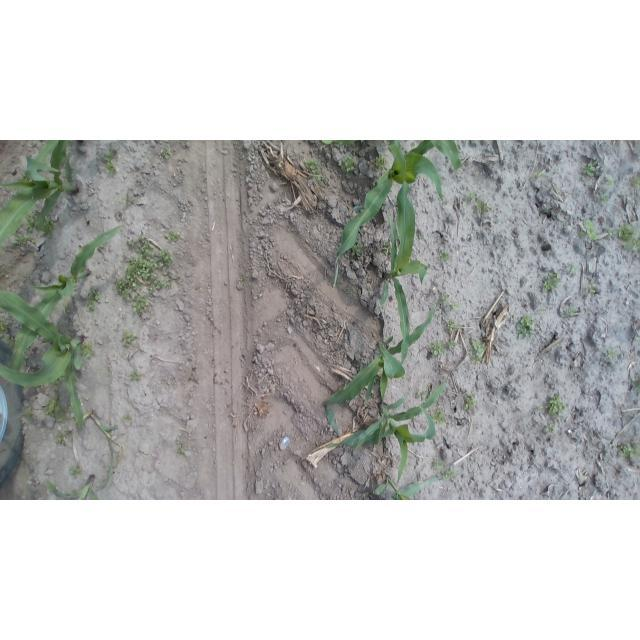Maize: (330, 140, 466, 289), (6, 226, 126, 374), (321, 299, 438, 439), (319, 370, 449, 484), (0, 289, 92, 428), (378, 165, 427, 366), (1, 140, 82, 250), (90, 412, 121, 490), (372, 473, 444, 499), (42, 474, 106, 499), (323, 140, 357, 146)
Weeds: (113, 257, 157, 302), (616, 222, 640, 251), (45, 397, 70, 424), (304, 156, 325, 185), (546, 392, 567, 420), (578, 218, 599, 242), (516, 313, 535, 339), (468, 337, 486, 364), (103, 146, 118, 176), (135, 236, 156, 256), (541, 271, 559, 293), (158, 247, 175, 270), (132, 295, 151, 315), (618, 441, 639, 459), (11, 233, 37, 247), (39, 217, 55, 238), (339, 156, 358, 173), (87, 289, 101, 312), (120, 328, 136, 348), (431, 408, 447, 424), (26, 215, 41, 232), (464, 392, 477, 411), (582, 163, 598, 178), (50, 376, 65, 392), (474, 200, 491, 214), (164, 229, 181, 243), (374, 154, 388, 170), (56, 431, 72, 445), (81, 341, 95, 357), (122, 189, 134, 207), (429, 341, 443, 355), (603, 348, 618, 361), (439, 292, 451, 308), (0, 317, 8, 340), (444, 320, 458, 333), (563, 304, 578, 316), (69, 464, 82, 477), (444, 470, 457, 483), (130, 369, 143, 382), (352, 243, 364, 257), (440, 250, 453, 262), (23, 408, 34, 422), (544, 423, 558, 434), (6, 335, 16, 350), (598, 193, 610, 205), (445, 339, 457, 351), (176, 442, 186, 456), (631, 374, 639, 391), (161, 148, 172, 160), (18, 174, 32, 183), (587, 283, 598, 294), (431, 459, 443, 469), (628, 176, 638, 188), (604, 177, 615, 187), (533, 171, 544, 181), (567, 263, 577, 274), (417, 389, 428, 399), (467, 190, 478, 200), (382, 243, 391, 254), (123, 412, 134, 421), (154, 281, 164, 290), (346, 284, 355, 292), (450, 302, 458, 311), (61, 302, 67, 314), (418, 232, 426, 240), (257, 290, 264, 299), (165, 281, 172, 290), (540, 210, 547, 218), (538, 307, 546, 314), (129, 240, 135, 248), (609, 229, 616, 235), (536, 406, 543, 412), (163, 271, 169, 276), (171, 275, 177, 280)
